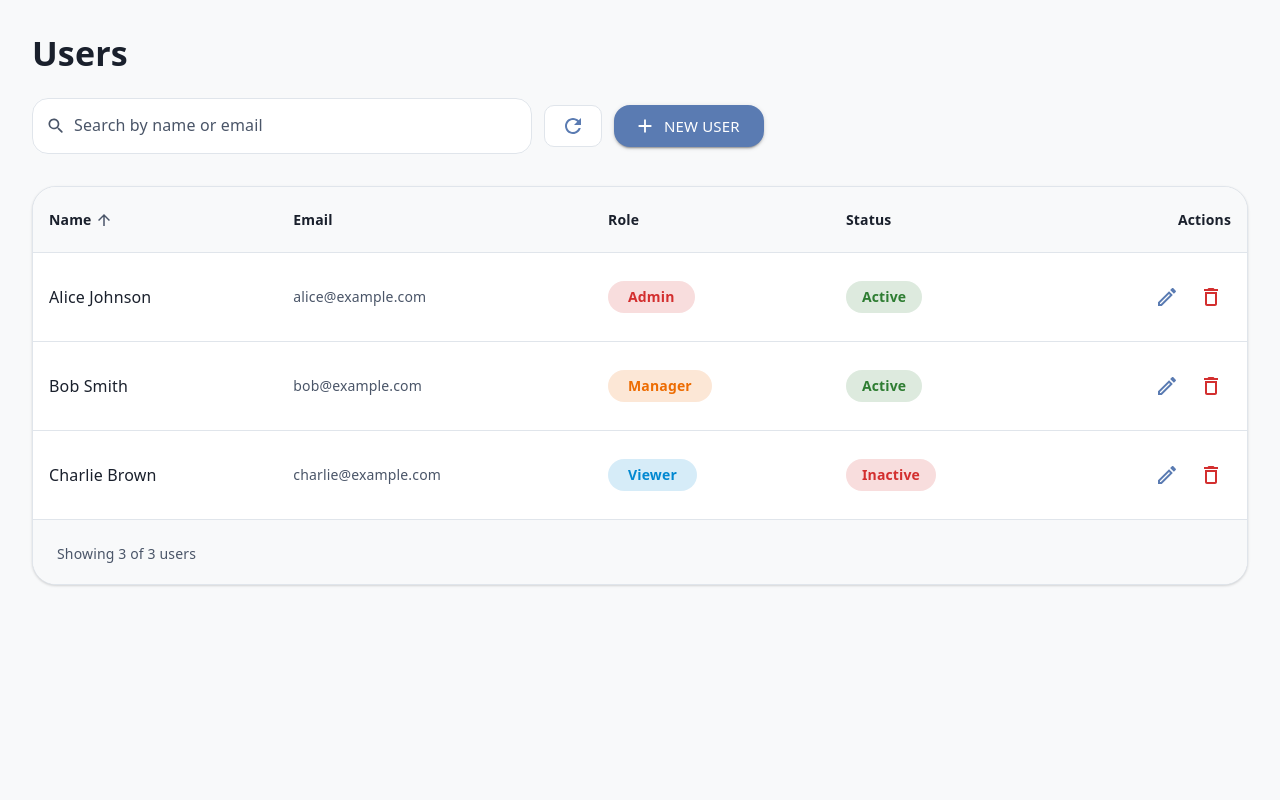
Test: UsersFlow - Filtering › should filter users by email
Expected: the text "Bob Smith" is shown, x1=49 y1=375 x2=128 y2=397
Type "bob@example.com" into the field with placeholder "Search by name or email".
click(303, 126); type("bob@example.com")  # box x1=74 y1=98 x2=532 y2=154
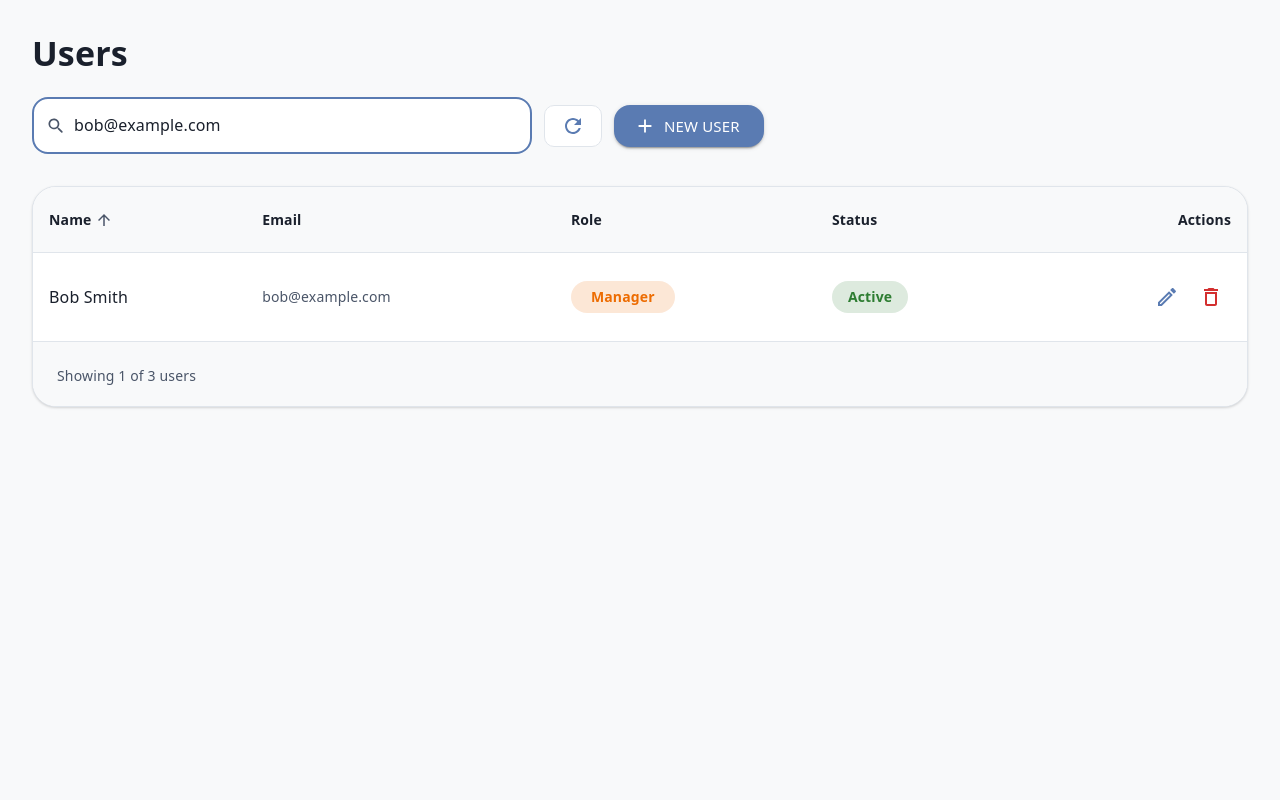
Expected: the text "Bob Smith" is shown, x1=49 y1=286 x2=128 y2=308
Expected: the text "Alice Johnson" is gone
Expected: the text "Charlie Brown" is gone
